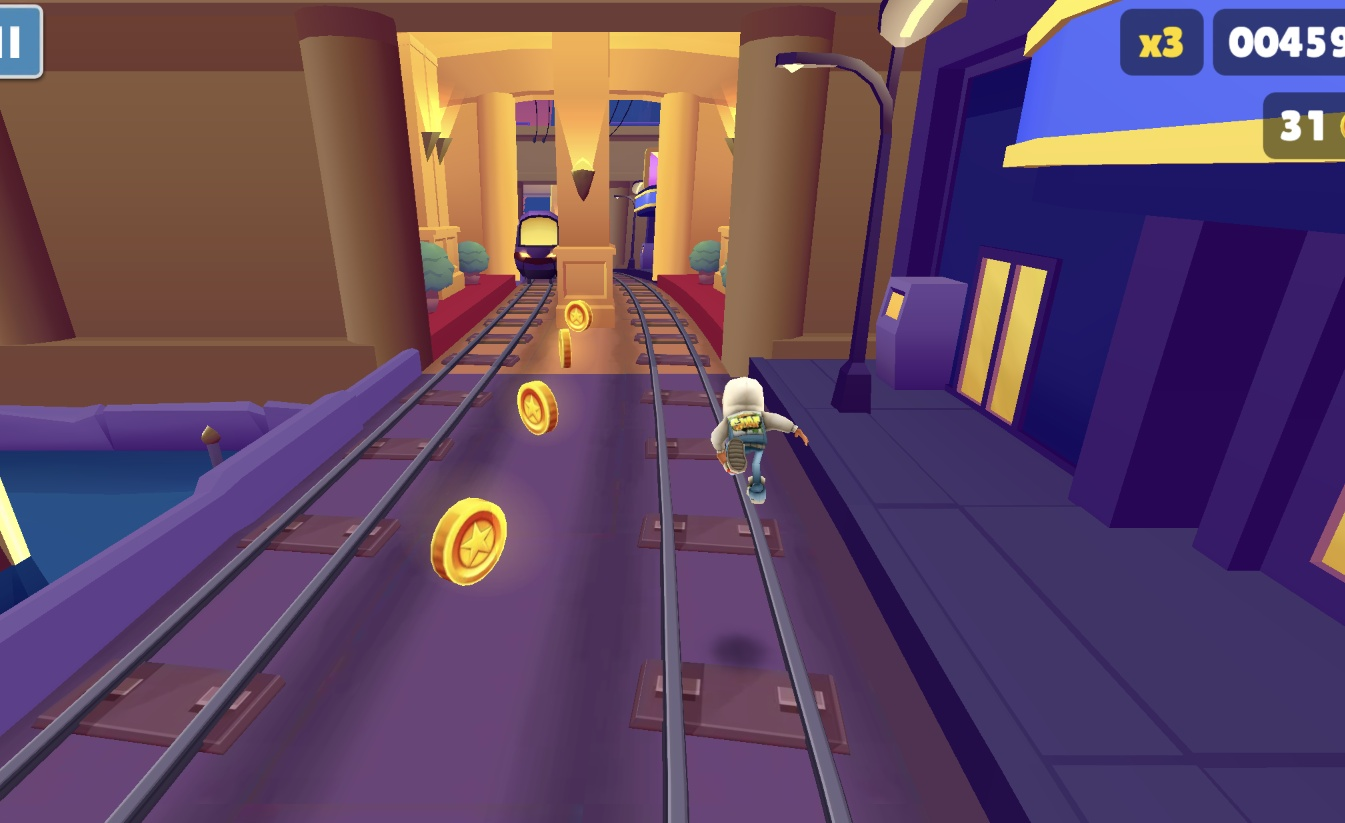pillar: (556, 36, 616, 314)
train: (514, 211, 561, 283)
